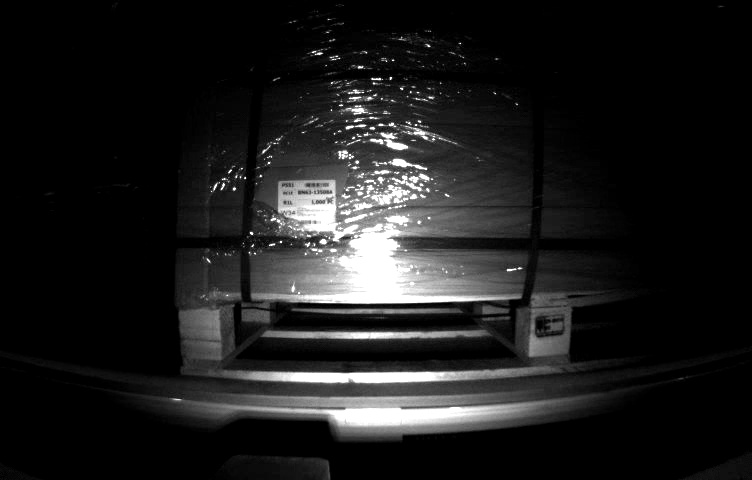True Barcode: (275, 178, 339, 232)
